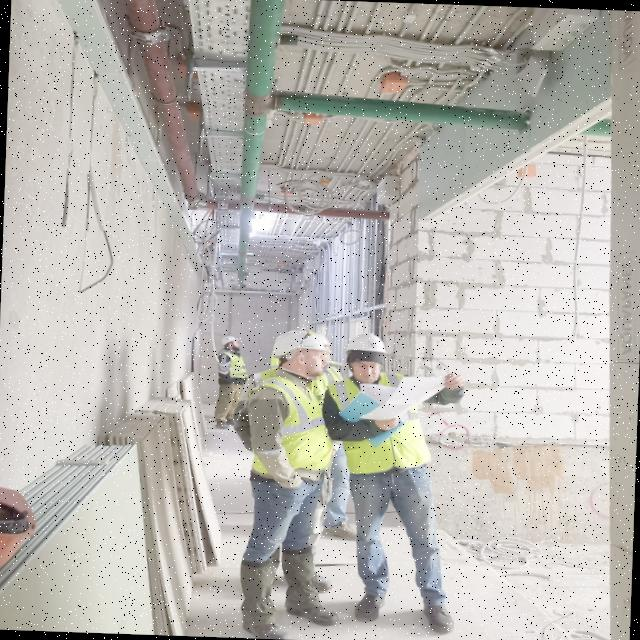Helmet: (272, 330, 331, 363), (347, 335, 388, 372), (222, 337, 241, 347)
Jacket: (332, 374, 413, 469), (262, 369, 330, 472), (220, 347, 249, 381)
